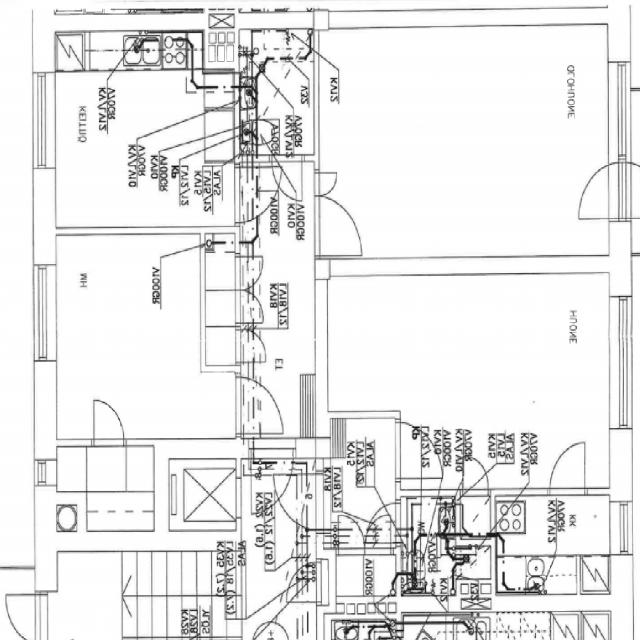door: (567, 164, 632, 218), (252, 438, 293, 514), (235, 376, 283, 434), (608, 164, 640, 218), (272, 154, 302, 202), (95, 398, 124, 446), (235, 328, 266, 362), (235, 290, 266, 322), (235, 257, 265, 289)
